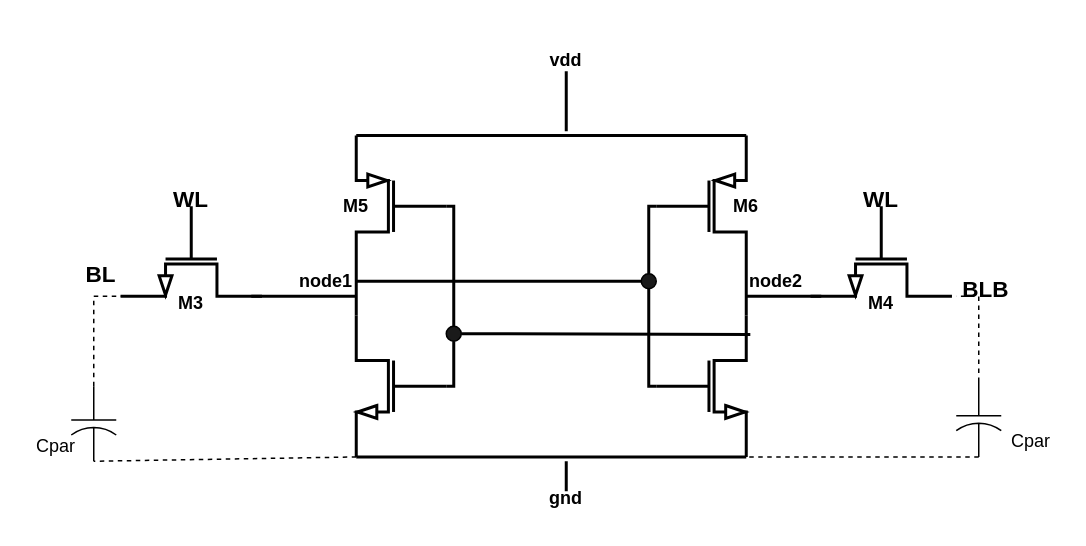
The diagram is 1086 pixels wide and 546 high, and some of its shapes have lost their labels. Here are the shapes that lost their labels. From the top down, the box of each, then its label:
(354, 309, 447, 462): M1
(654, 309, 747, 462): M2
